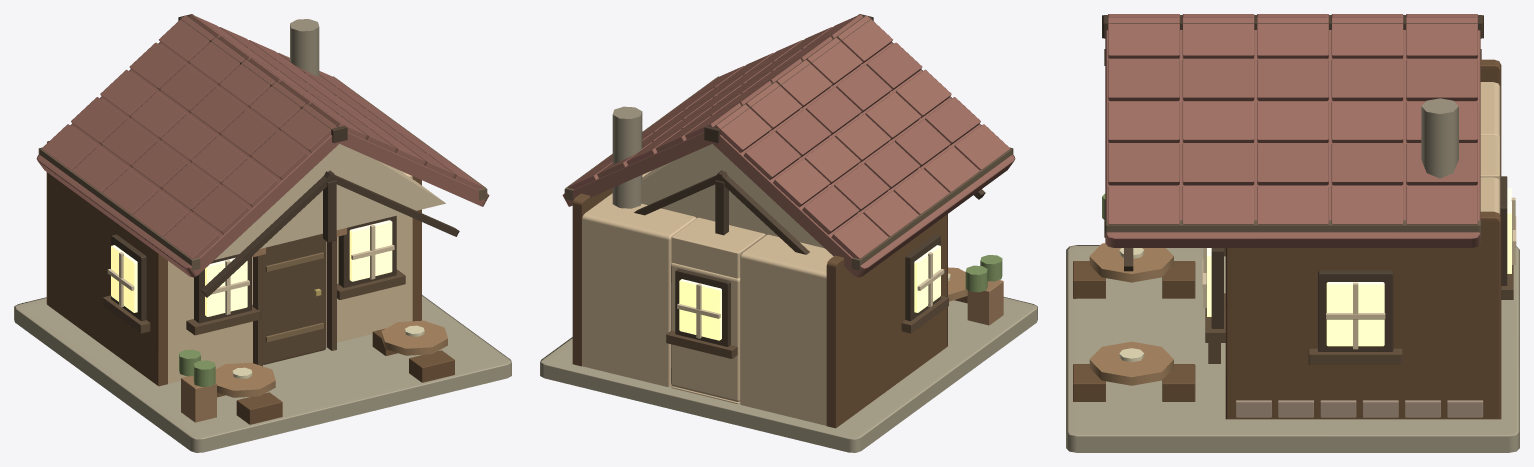
Rendered from restaurant-3.glb.
3 renders of one model, left to right at view 1: azimuth 30°, elevation 25°; view 2: azimuth 150°, elevation 25°; view 3: azimuth 270°, elevation 25°, orthographic. The views are drawn at different scales.
Parts seen in each view (by area): view 1: restaurant-3-0, door-hinge; view 2: restaurant-3-0; view 3: restaurant-3-0.
Boxes of the visible parts, bbox=[...] form: restaurant-3-0: bbox=[14, 14, 511, 452]; door-hinge: bbox=[263, 233, 326, 364]; restaurant-3-0: bbox=[540, 14, 1037, 452]; restaurant-3-0: bbox=[1066, 14, 1519, 452].
Size of the model in its own units: 2.9 by 2.41 by 2.9.
